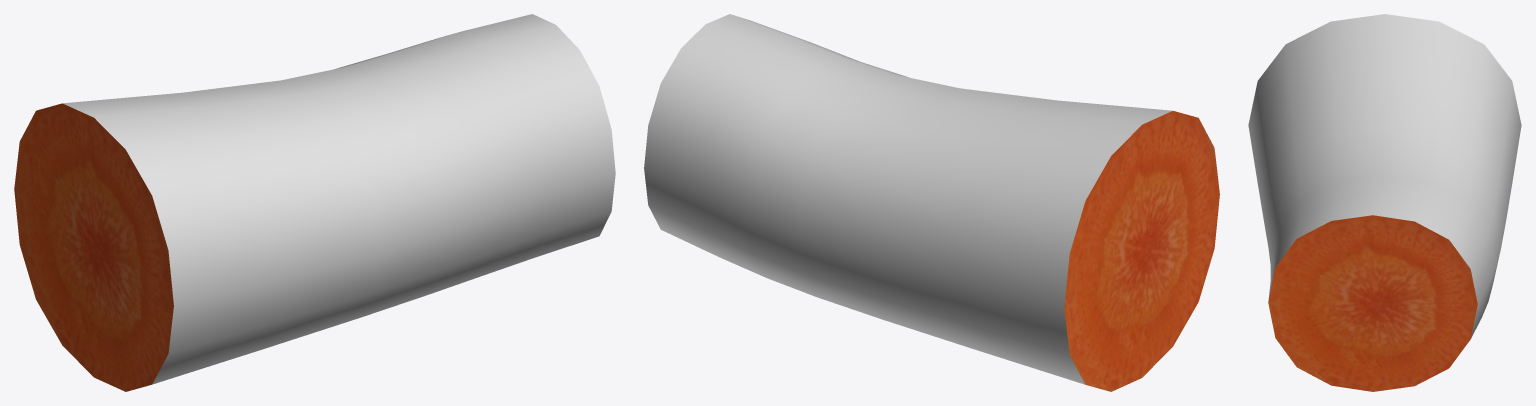
File: CarrotMid.fbx
3 renders of one model, left to right at view 1: azimuth 30°, elevation 25°; view 2: azimuth 150°, elevation 25°; view 3: azimuth 270°, elevation 25°, orthographic. The views are drawn at different scales.
Visible parts, largest first — view 1: Carrot2.005, Carrot2.006; view 2: Carrot2.005, Carrot2.006; view 3: Carrot2.005, Carrot2.007.
Part boxes in pixels (x1,y1,x2,y2): Carrot2.005: (63, 14, 615, 384); Carrot2.006: (14, 103, 173, 391); Carrot2.005: (644, 14, 1172, 384); Carrot2.006: (1064, 111, 1219, 391); Carrot2.005: (1248, 14, 1521, 338); Carrot2.007: (1268, 215, 1477, 391).
Bounding box in the file's own units: 5.53 × 3 × 3.35.
Materials: 2 (1 with a texture image).
